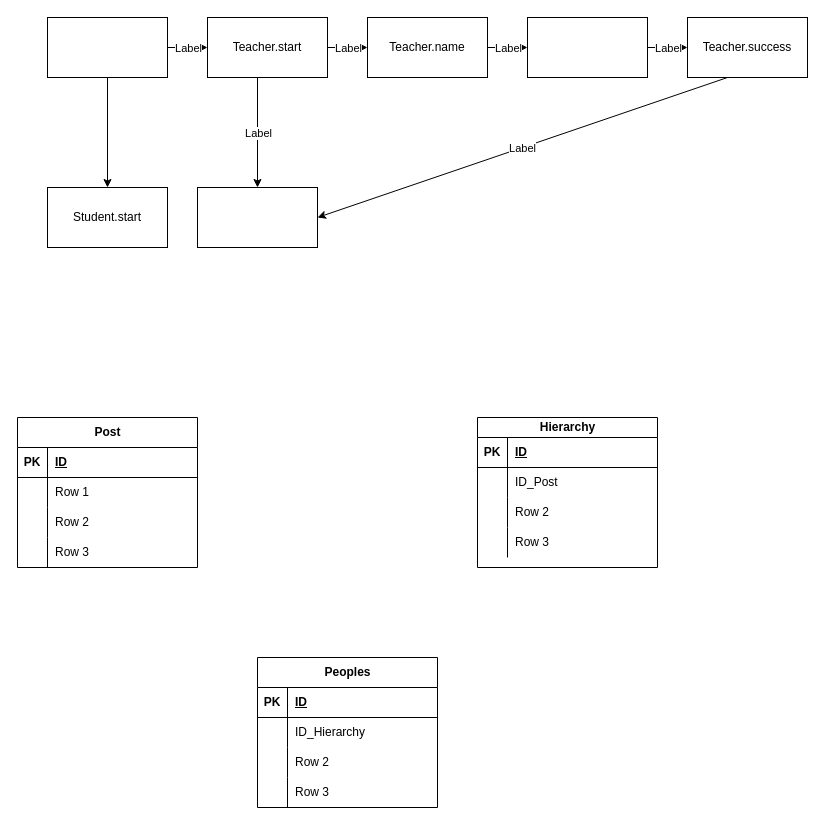
The diagram is 825 pixels wide and 825 high, and some of its shapes have lost their labels. Here are the shapes that lost their labels. From the top down, the centre of each, then its label:
At [107,47]: "Start.state".
At [587,47]: "Teacher.email".
At [257,217]: "Teacher.is_registry".
